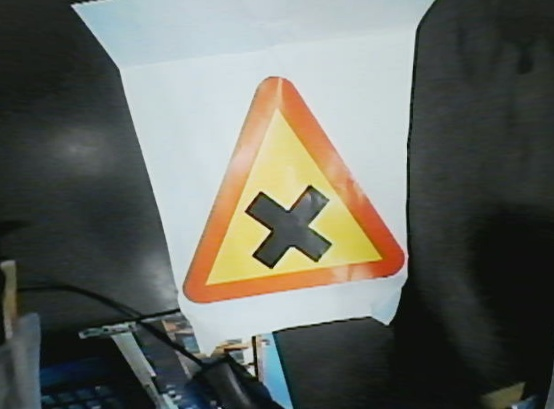junction: (179, 71, 432, 326)
